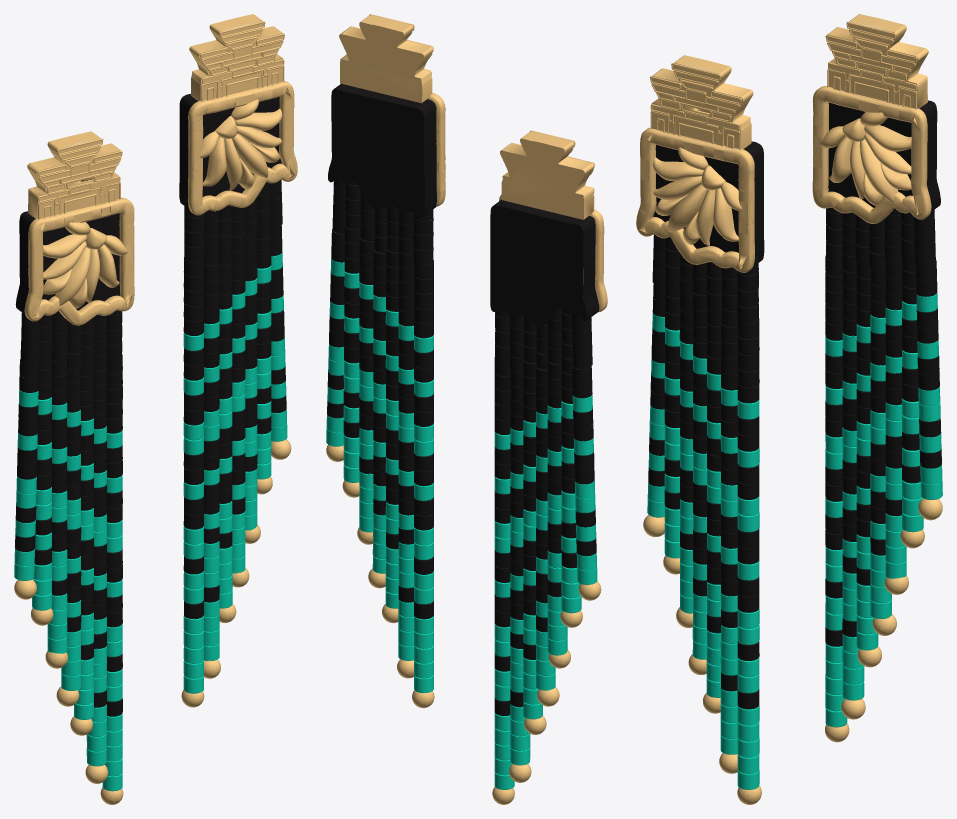
Rendered from anahita-earrings_compressed.glb.
3 views of the same model, side by side, from view 1: azimuth 30°, elevation 25°; view 2: azimuth 150°, elevation 25°; view 3: azimuth 330°, elevation 25° (orthographic). The views are drawn at different scales.
Visible parts, largest first — view 1: Mesh_0.002; view 2: Mesh_0.002; view 3: Mesh_0.002.
Part boxes in pixels (x1,y1,x2,y2): Mesh_0.002: [14, 14, 297, 804]; Mesh_0.002: [326, 14, 607, 804]; Mesh_0.002: [636, 14, 942, 804].
Size of the model in its own units: 25.08 by 65.99 by 3.7.
